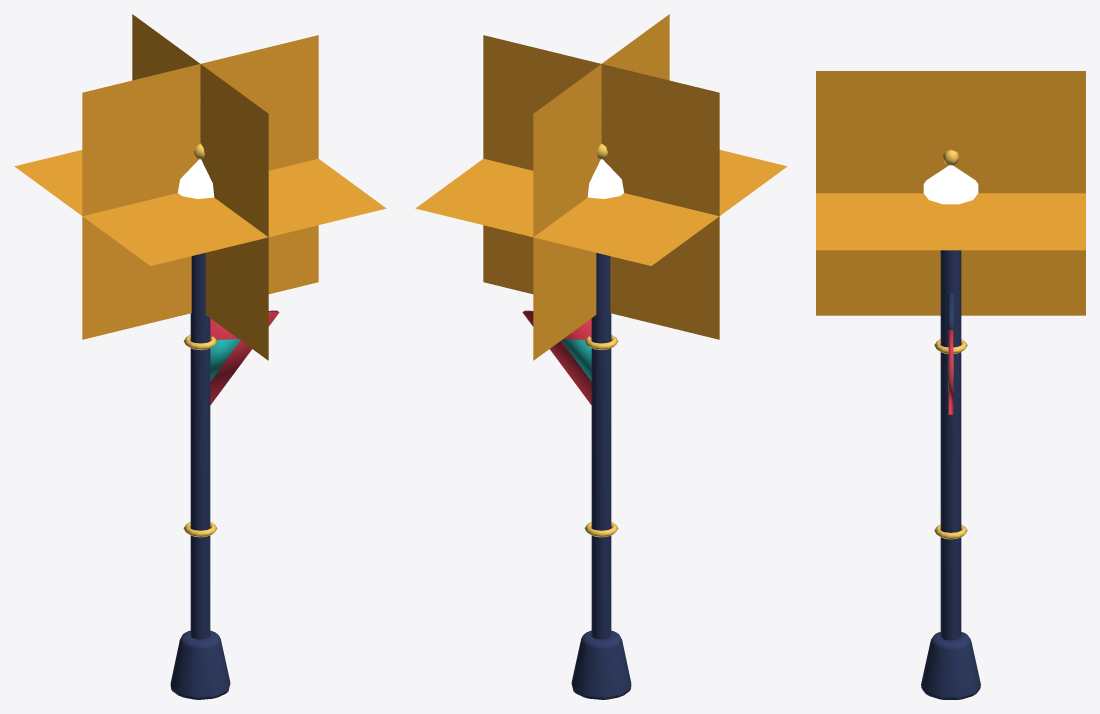
File: sky_lamp.glb
The picture shows the model from 3 angles, left to right: view 1: azimuth 30°, elevation 25°; view 2: azimuth 150°, elevation 25°; view 3: azimuth 270°, elevation 25°; orthographic projection.
Parts seen in each view (by area): view 1: Lamp; view 2: Lamp; view 3: Lamp.
Boxes of the visible parts, <box> form: Lamp: <box>14,14,386,699</box>; Lamp: <box>415,14,787,699</box>; Lamp: <box>816,71,1085,699</box>.
Bounding box in the file's own units: 1.85 × 4.67 × 1.85.
